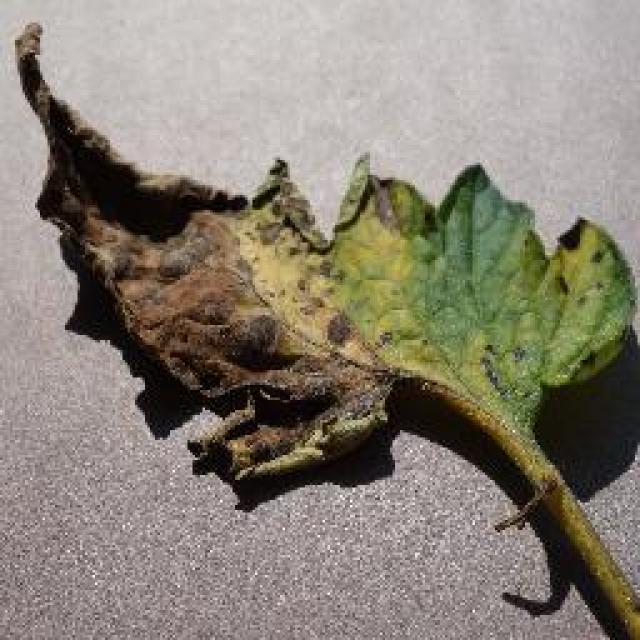Tomato Early blight leaf: (20, 30, 640, 640)
